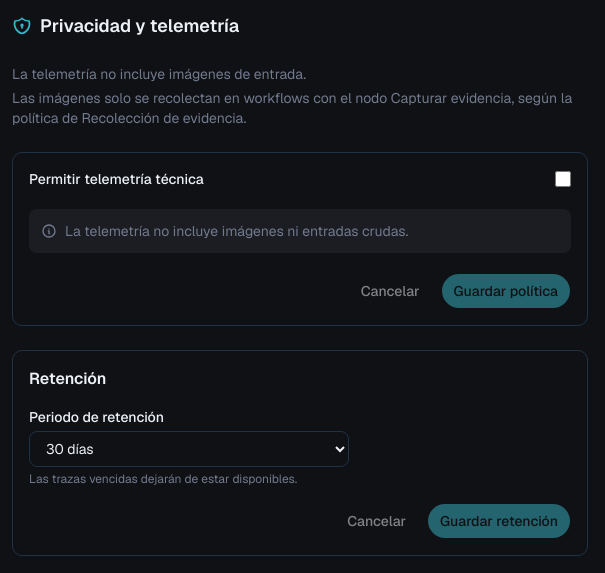
Test: US-100: Configurar la política de telemetría › lets an administrator enable telemetry without sending the retention
Step 1. Click the switch labelled "Permitir telemetría técnica" → (563, 179), box [555, 171, 571, 187]
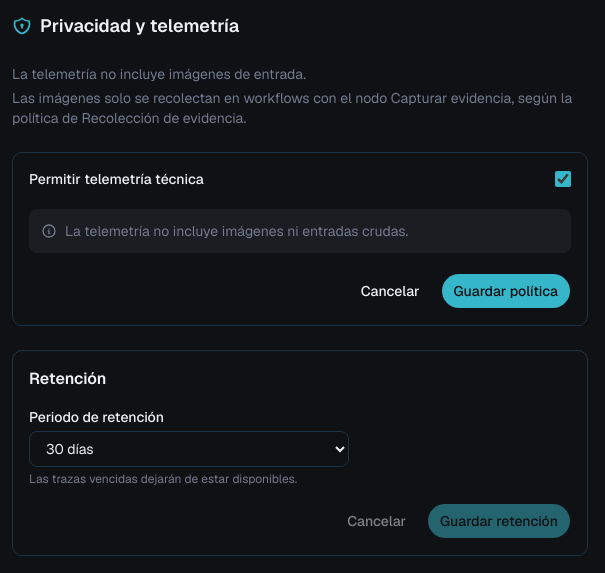
Step 2. Click the button "Guardar política" → (506, 291), box [441, 273, 571, 309]
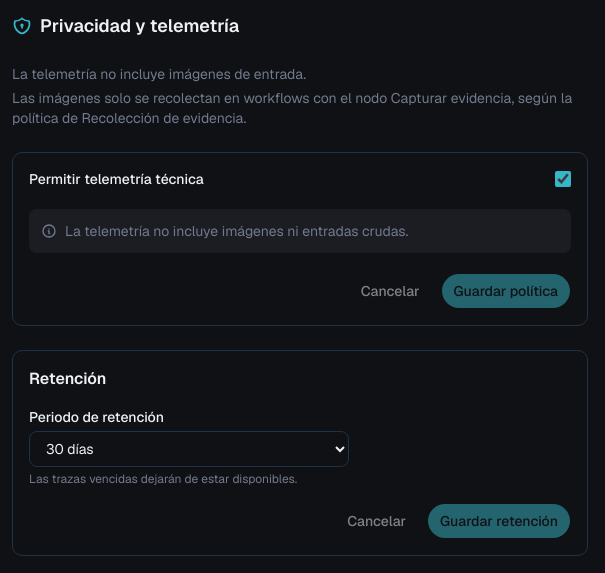
Expected: the dropdown labelled "Periodo de retención" shows "30 días", [29, 431, 349, 467]
Now the switch labelled "Permitir telemetría técnica" is checked, box [555, 171, 571, 187]
Now the button "Guardar política" is disabled, box [441, 273, 571, 309]
